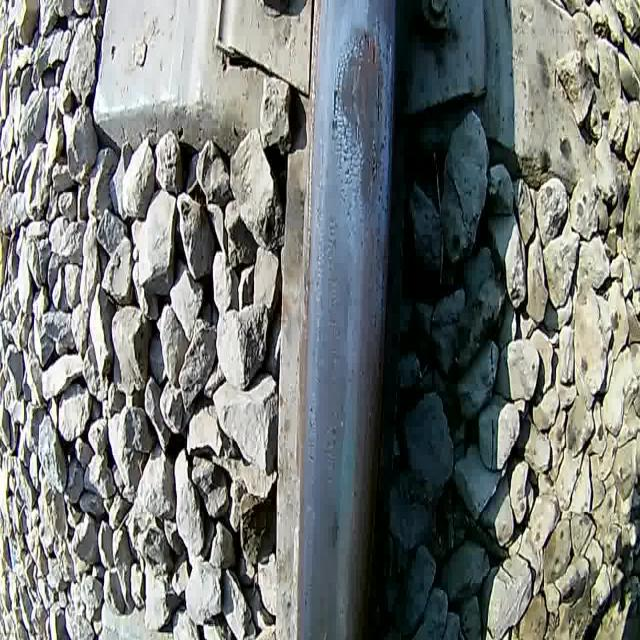Squats: (328, 18, 389, 221)
